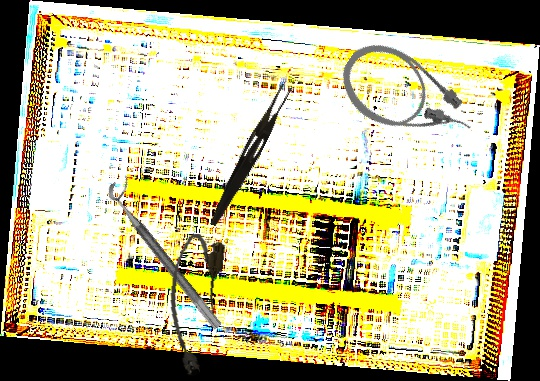Cannula: (328, 29, 485, 169), (159, 231, 227, 379)
Dressing Forceps: (207, 80, 293, 231)
Fixation Ring: (103, 174, 235, 331)
